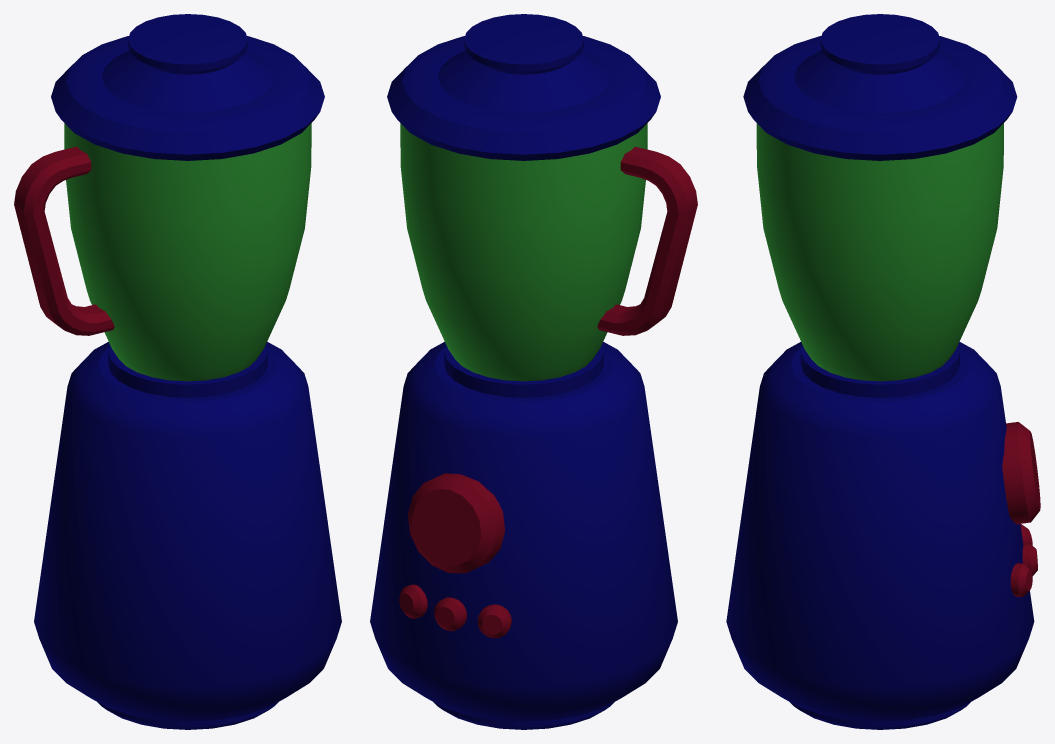
The model's file is Squeezer.FBX.
3 renders of one model, left to right at view 1: azimuth 30°, elevation 25°; view 2: azimuth 150°, elevation 25°; view 3: azimuth 270°, elevation 25°, orthographic.
Visible parts, largest first — view 1: Squeezer; view 2: Squeezer; view 3: Squeezer.
Boxes of the visible parts, left/top/right/bottom form: Squeezer: left=14, top=14, right=341, bottom=729; Squeezer: left=370, top=14, right=697, bottom=729; Squeezer: left=726, top=14, right=1040, bottom=729.
Size of the model in its own units: 484 by 435 by 1002.
